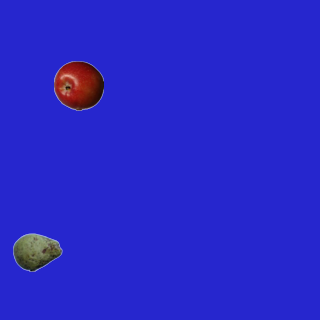Apple Braeburn: (53, 60, 103, 110)
Pear Stone: (12, 227, 62, 277)
